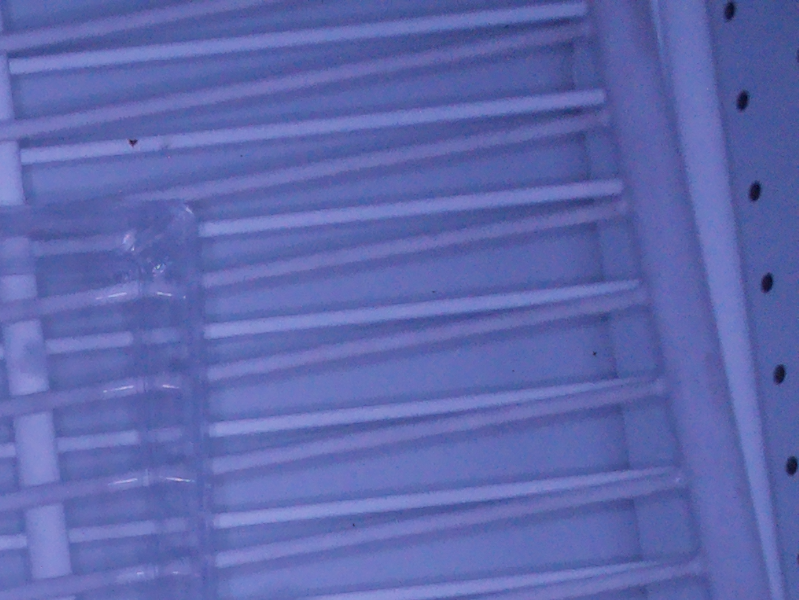plate: (1, 193, 209, 600)
